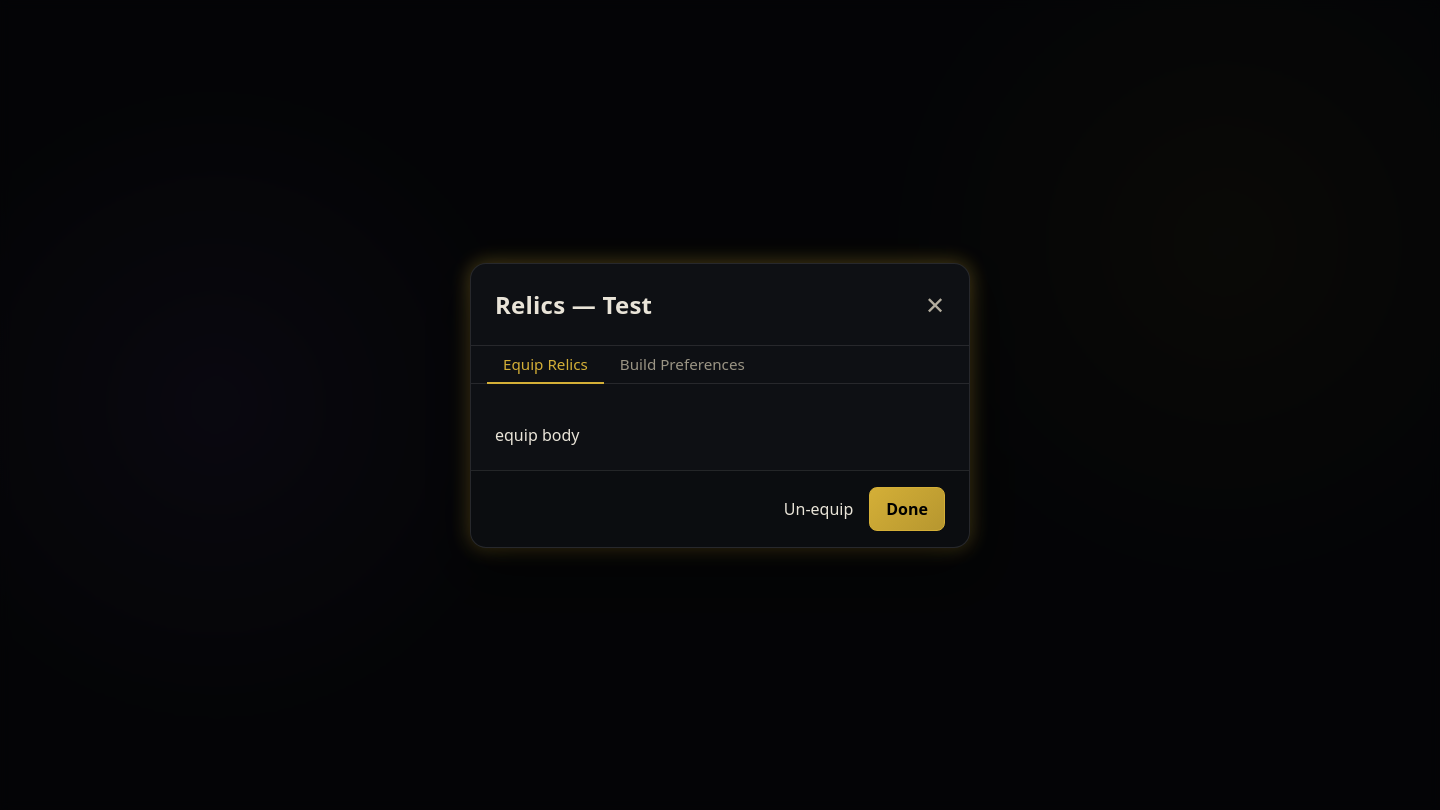
Scenario: EquipmentEditorShell › renders equipFooterExtra only on the Equip tab
The width and height of the screenshot is (1440, 810).
Expected: the button "Un-equip" is shown, [784,486,853,530]
Click the button "Build Preferences" at (682, 364), box [604,346,761,384]
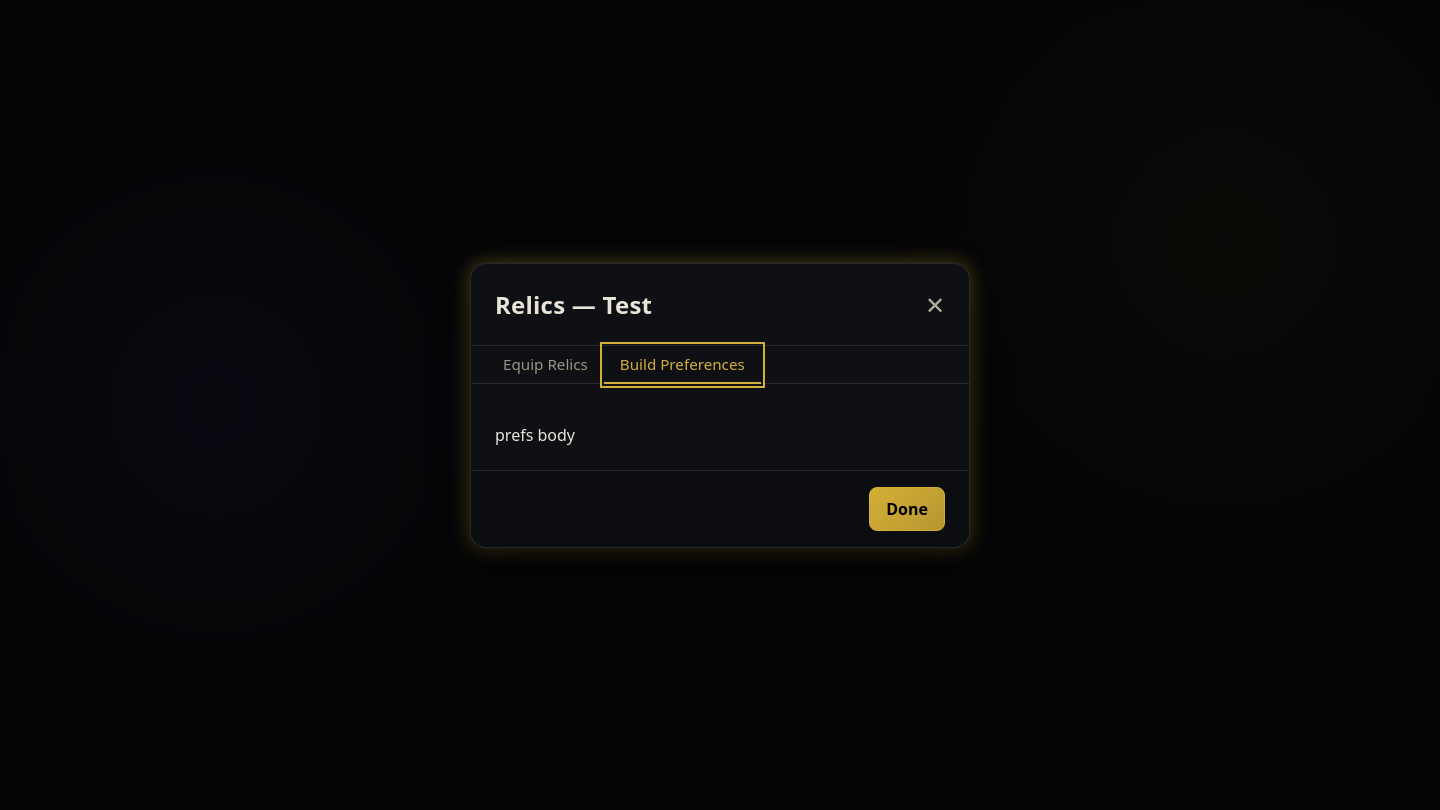
Expected: the button "Un-equip" is gone
